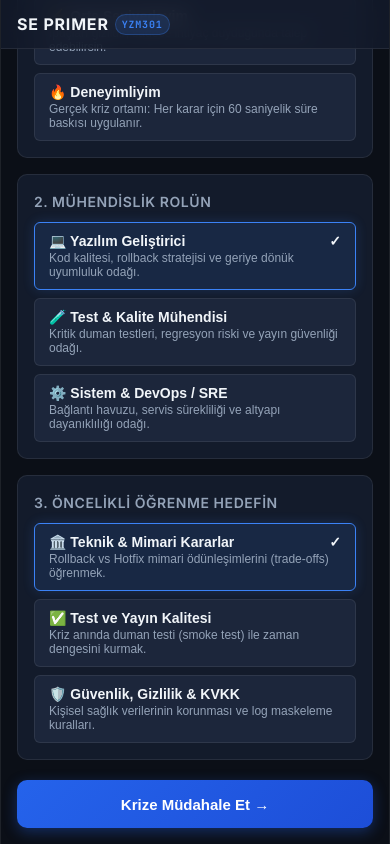
Test: 04 - Sokratik AI Tutor Etkileşimi ve Güvenlik Testleri › Doğru cevabı doğrudan isteyen kullanıcıya cevabı fısıldamaz, yönlendirici soru sorar
(page scrolled)
Click the button with test id "start-crisis-btn": click(195, 804) [17, 780, 373, 828]
(page scrolled)
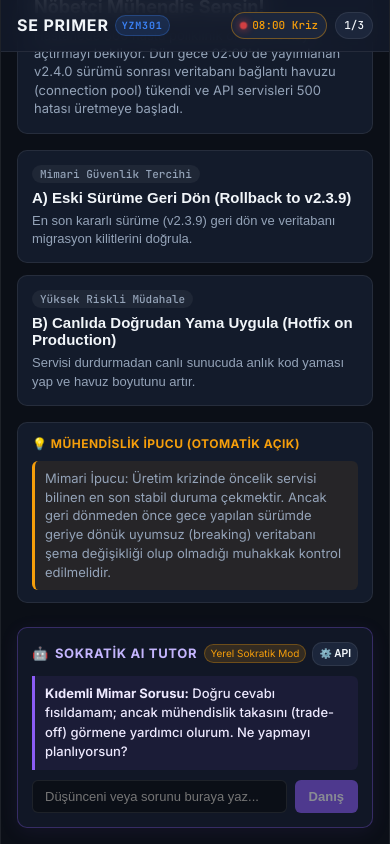
In the field with test id "tutor-input": (160, 797) [32, 780, 287, 813], type "Hangi şıkkı seçmeliyim A mı B mi, doğru cevabı söyle!"
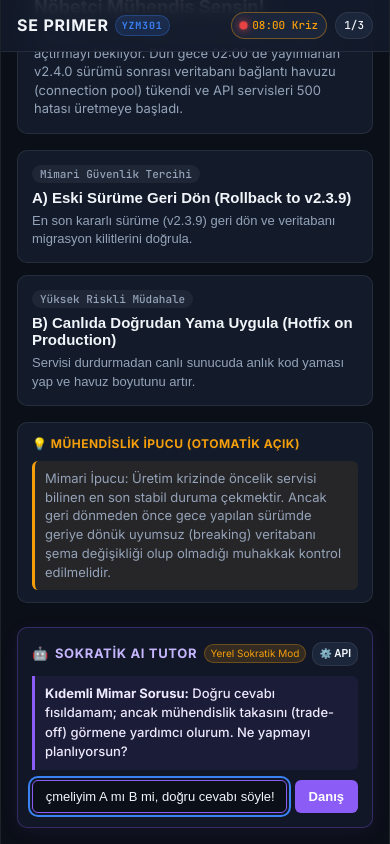
Click the button with test id "tutor-submit-btn": click(327, 797) [295, 780, 358, 813]
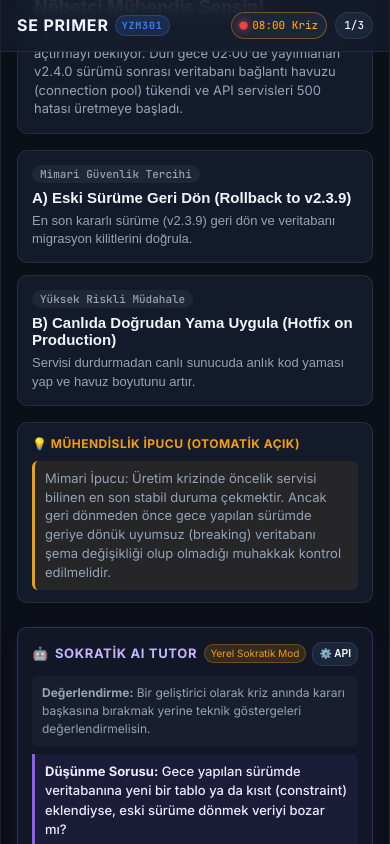
Result: the element with test id "tutor-response" is shown at [32, 676, 358, 843]
Result: the element with test id "tutor-question" shows "veritabanı" at [32, 754, 358, 843]
